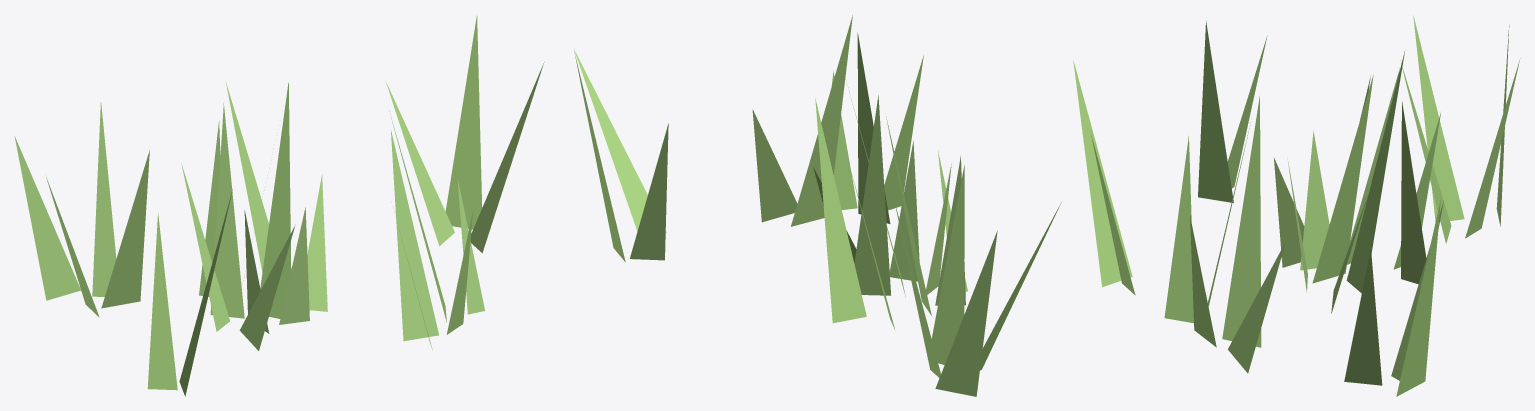
Rendered from Grass_c_TwoS_07.fbx.
3 renders of one model, left to right at view 1: azimuth 30°, elevation 25°; view 2: azimuth 150°, elevation 25°; view 3: azimuth 270°, elevation 25°, orthographic. The views are drawn at different scales.
Parts seen in each view (by area): view 1: Grass_c_TwoS_07; view 2: Grass_c_TwoS_07; view 3: Grass_c_TwoS_07.
Boxes of the visible parts, <box> form: Grass_c_TwoS_07: <box>14,16,544,396</box>; Grass_c_TwoS_07: <box>574,15,1135,396</box>; Grass_c_TwoS_07: <box>1164,15,1520,396</box>.
Bounding box in the file's own units: 144 × 64.18 × 88.56.
